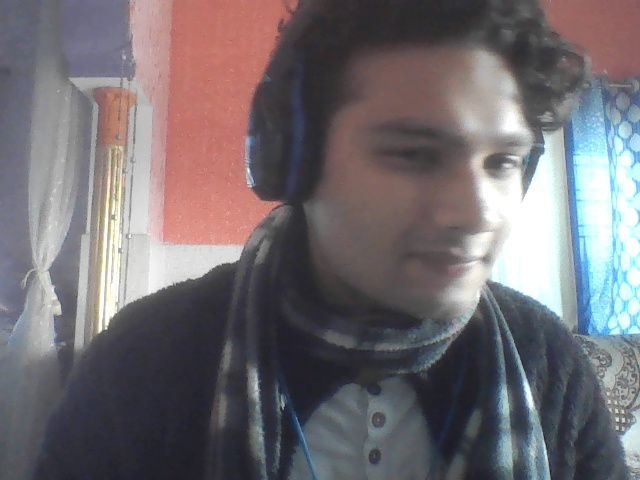real: (268, 0, 548, 397)
